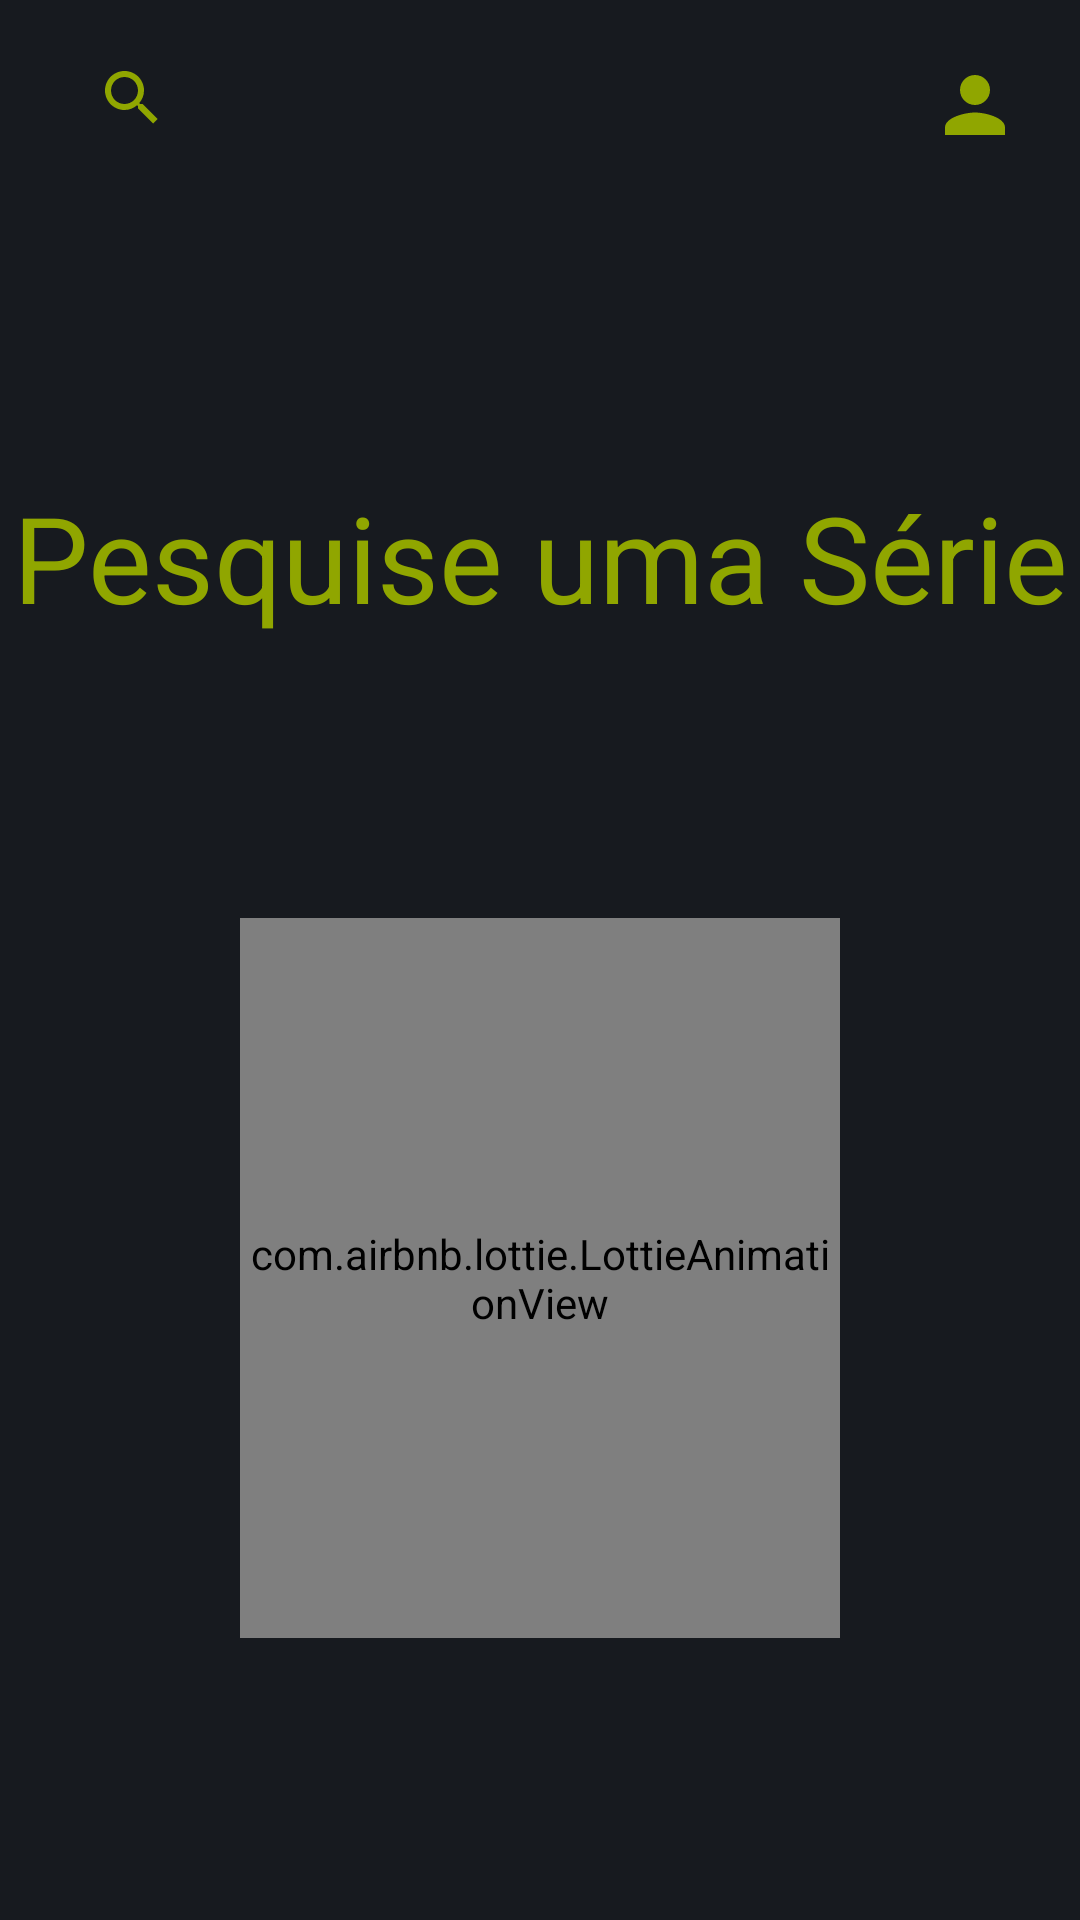

Icon bounding boxes for this 1080*1920 phone screenshot, format region(x1, y1, x2, y2):
person: region(945, 75, 1005, 135)
